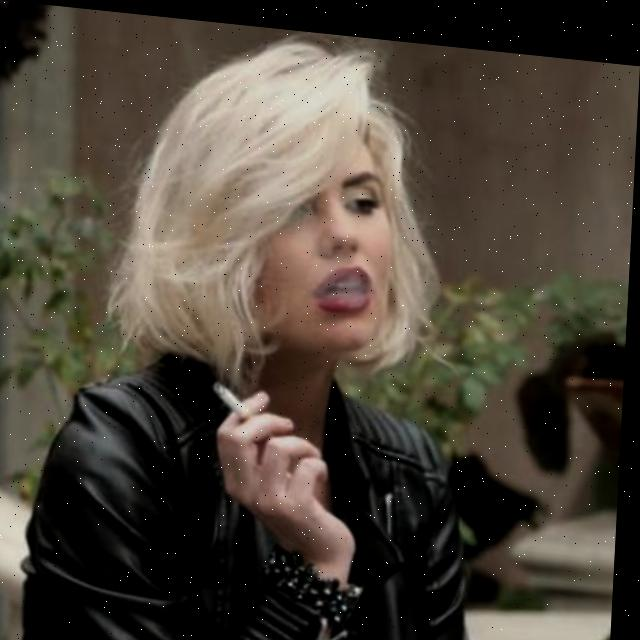cigarette: (213, 373, 264, 418)
